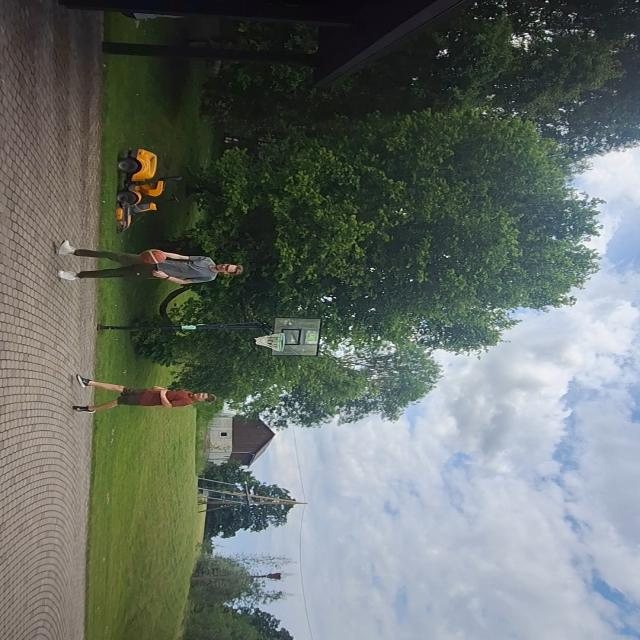ball: (138, 248, 169, 266)
hoop: (254, 330, 288, 354)
player: (54, 236, 247, 285), (72, 372, 217, 417)
